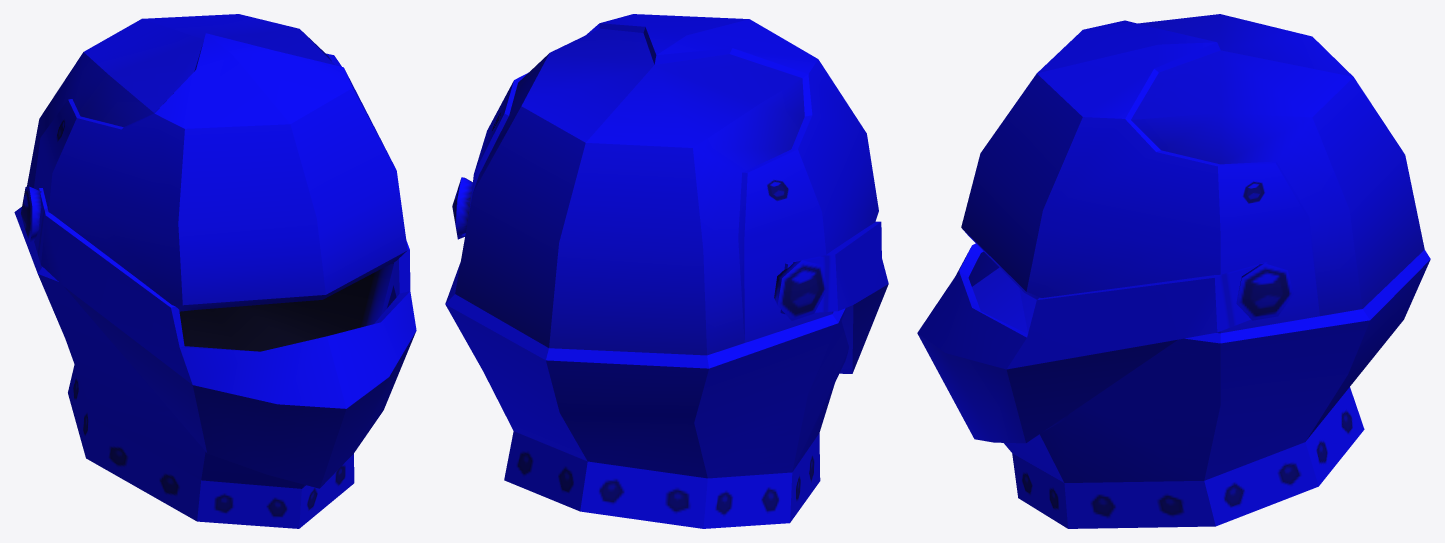
File: ArmetHelmet_F.fbx
3 views of the same model, side by side, from view 1: azimuth 30°, elevation 25°; view 2: azimuth 150°, elevation 25°; view 3: azimuth 270°, elevation 25° (orthographic). The views are drawn at different scales.
Parts seen in each view (by area): view 1: ArmetHelmet_F, ArmetHelmet_F_Visor; view 2: ArmetHelmet_F, ArmetHelmet_F_Visor; view 3: ArmetHelmet_F, ArmetHelmet_F_Visor.
Boxes of the visible parts, bbox=[...] form: ArmetHelmet_F: bbox=[14, 14, 407, 528]; ArmetHelmet_F_Visor: bbox=[21, 186, 416, 488]; ArmetHelmet_F: bbox=[445, 14, 878, 528]; ArmetHelmet_F_Visor: bbox=[452, 177, 888, 373]; ArmetHelmet_F: bbox=[961, 14, 1430, 528]; ArmetHelmet_F_Visor: bbox=[917, 243, 1293, 443].
Size of the model in its own units: 27.44 by 33.66 by 34.36.
